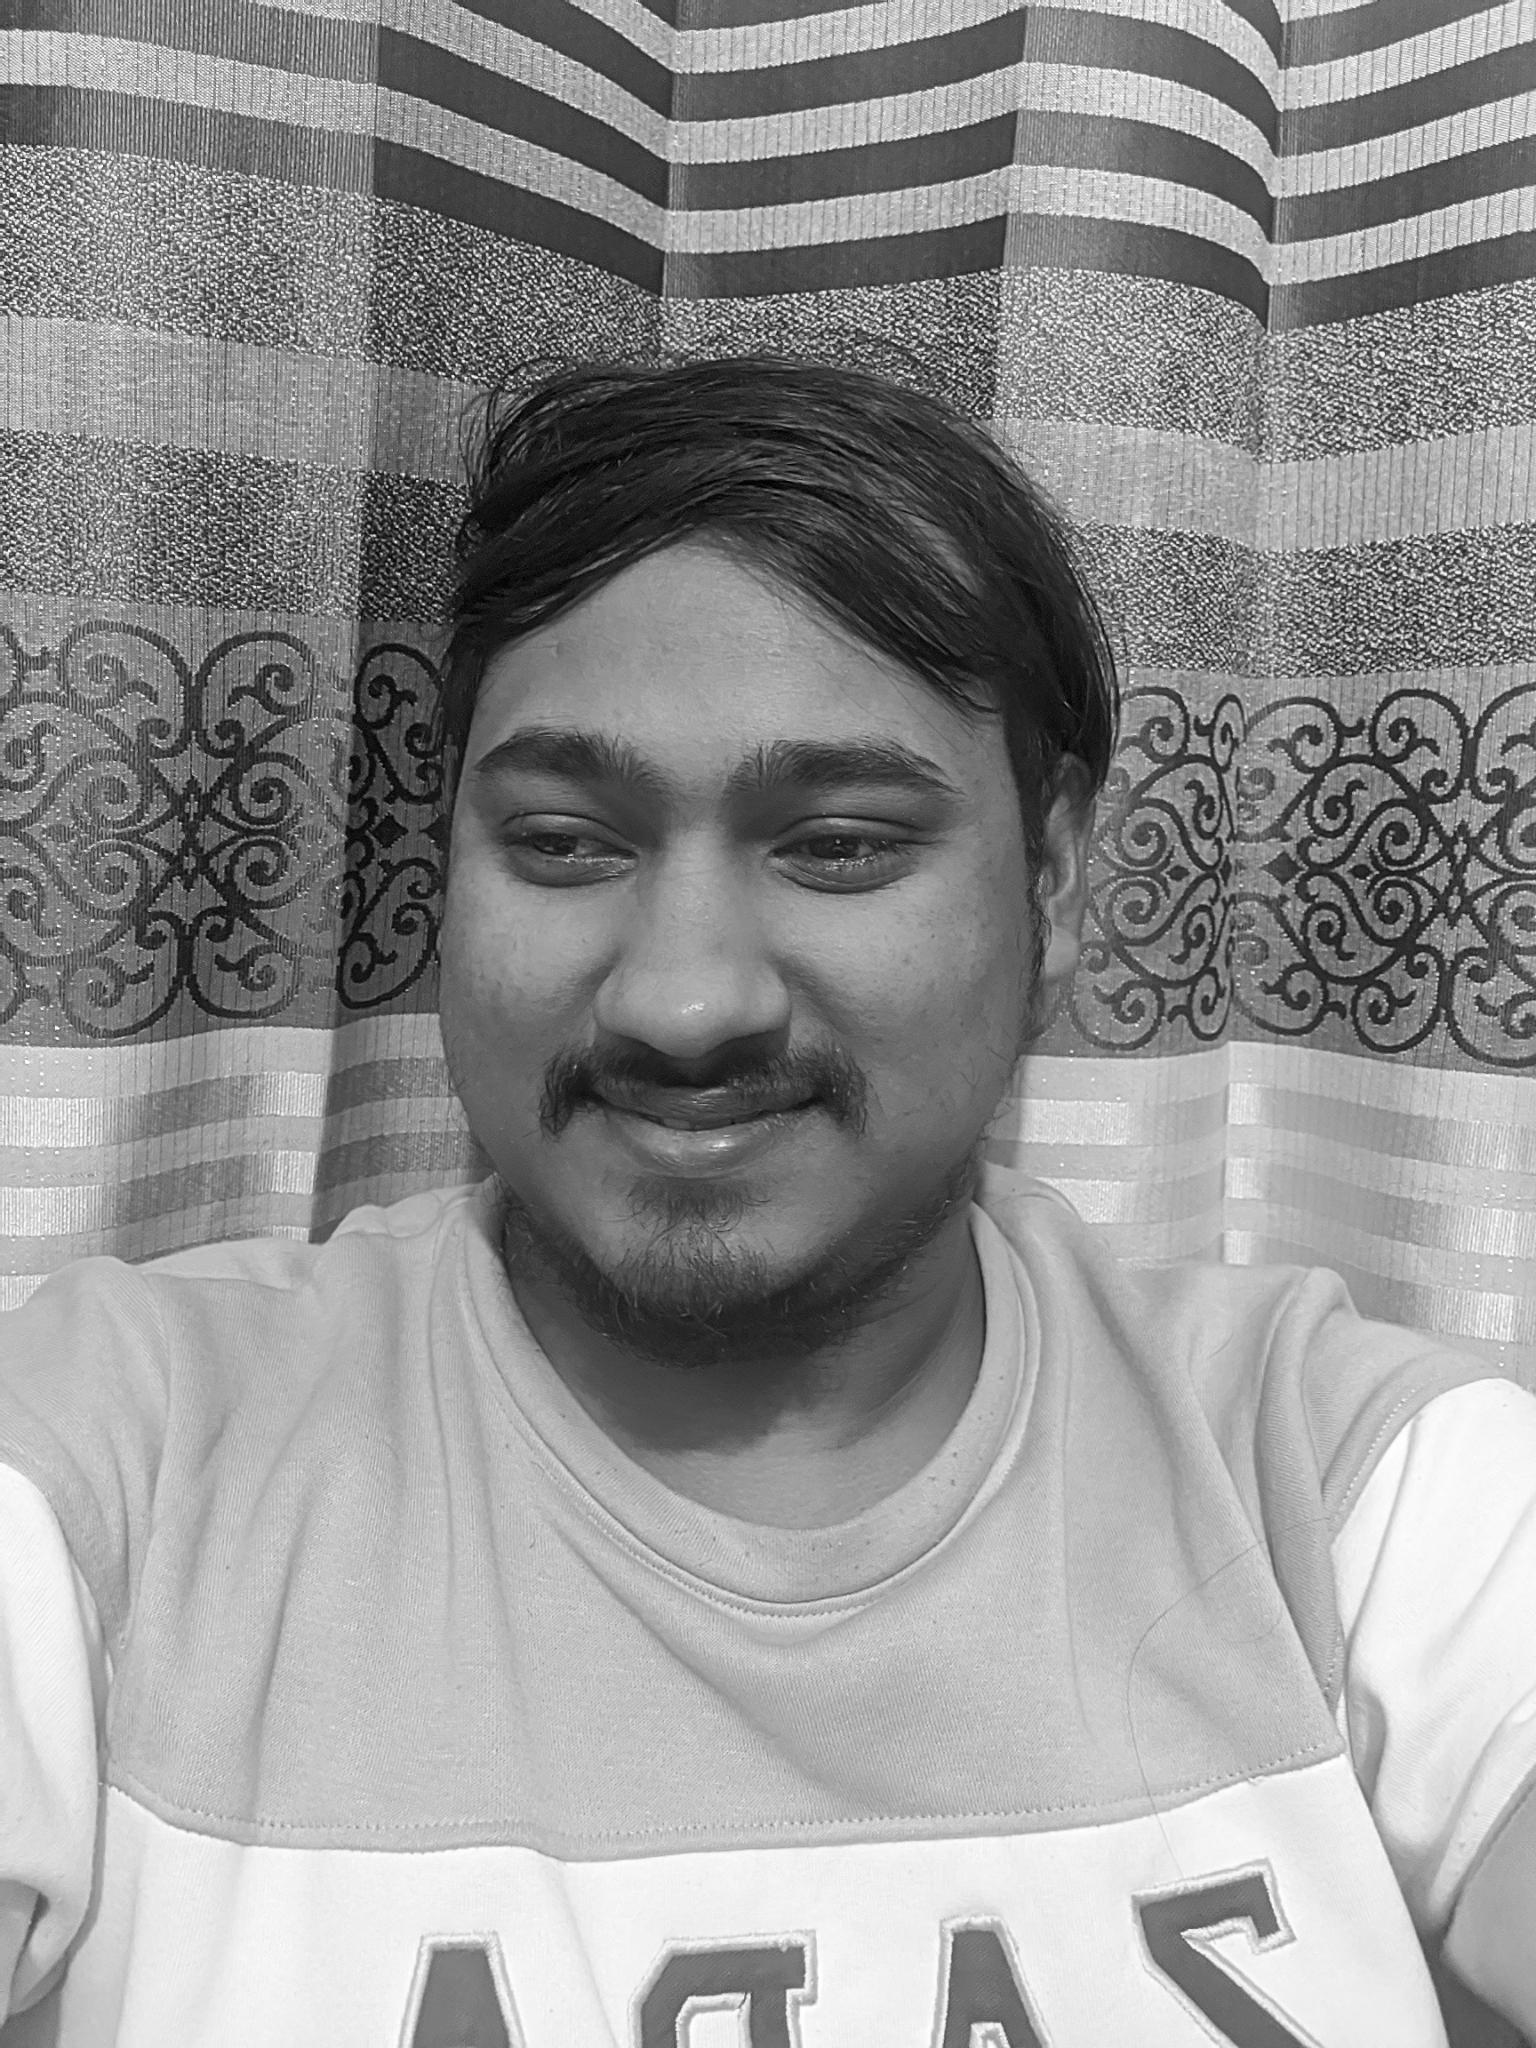Happy: (423, 655, 1002, 1317)
